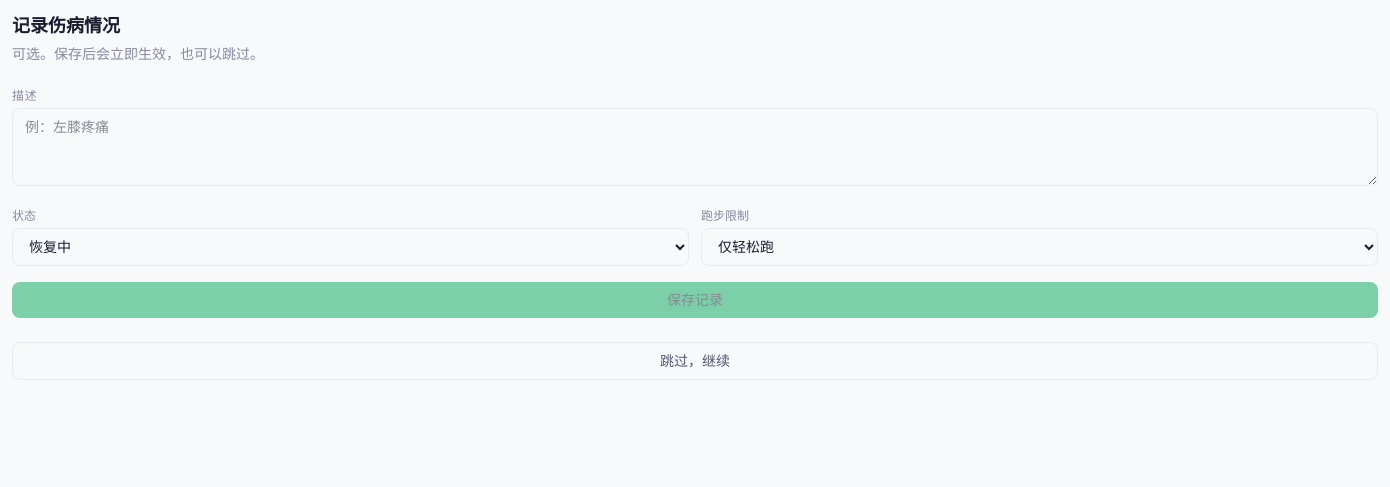
Test: InjuryStep › persists create and reloads immediately
Check: the heading "记录伤病情况" is shown, box [12, 14, 120, 37]
Type "左膝疼痛" into the text box labelled "描述" at (695, 147), box [12, 108, 1378, 186]
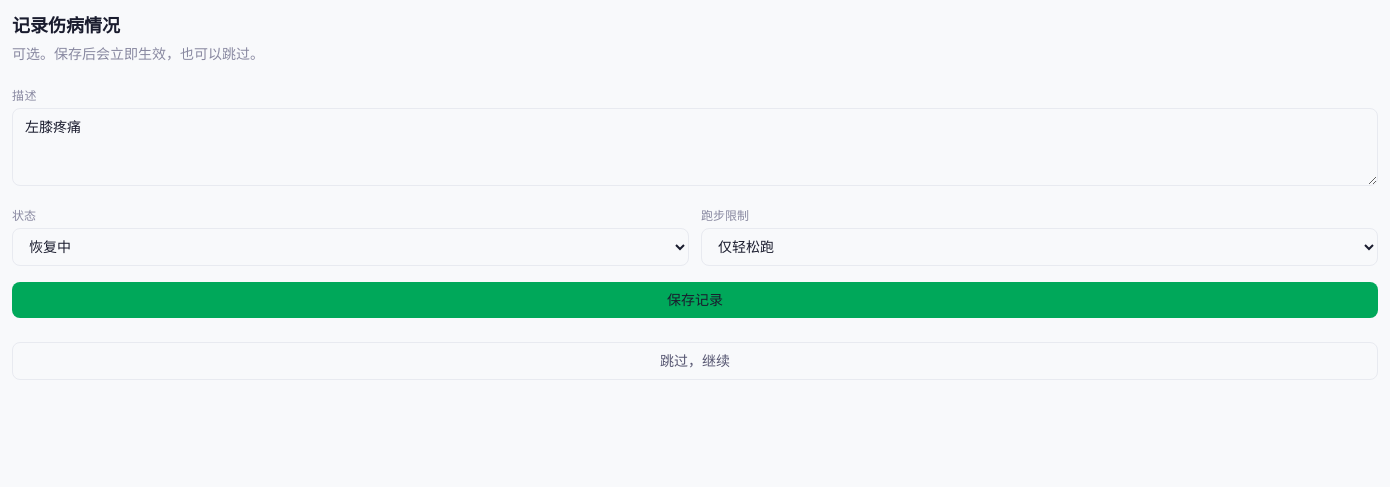
Click the button "保存记录" at (695, 300), box [12, 282, 1378, 318]
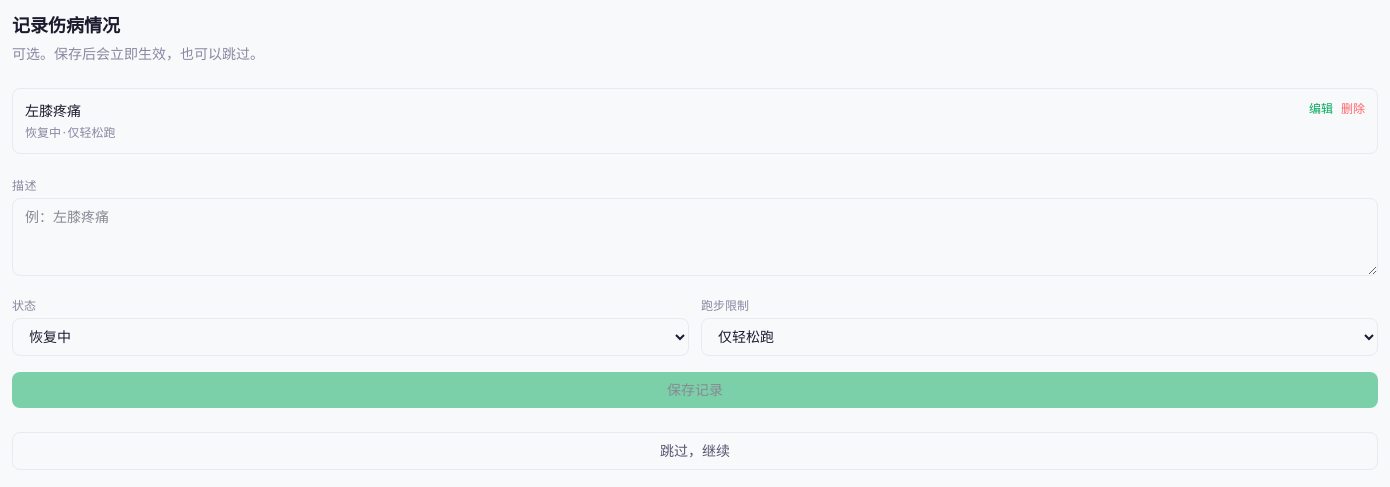
Check: the text "左膝疼痛" is shown, box [25, 102, 81, 120]
